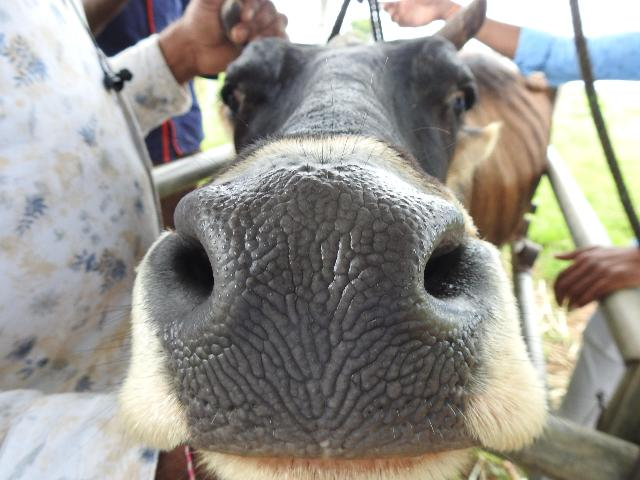Muzzle: (199, 190, 433, 444)
